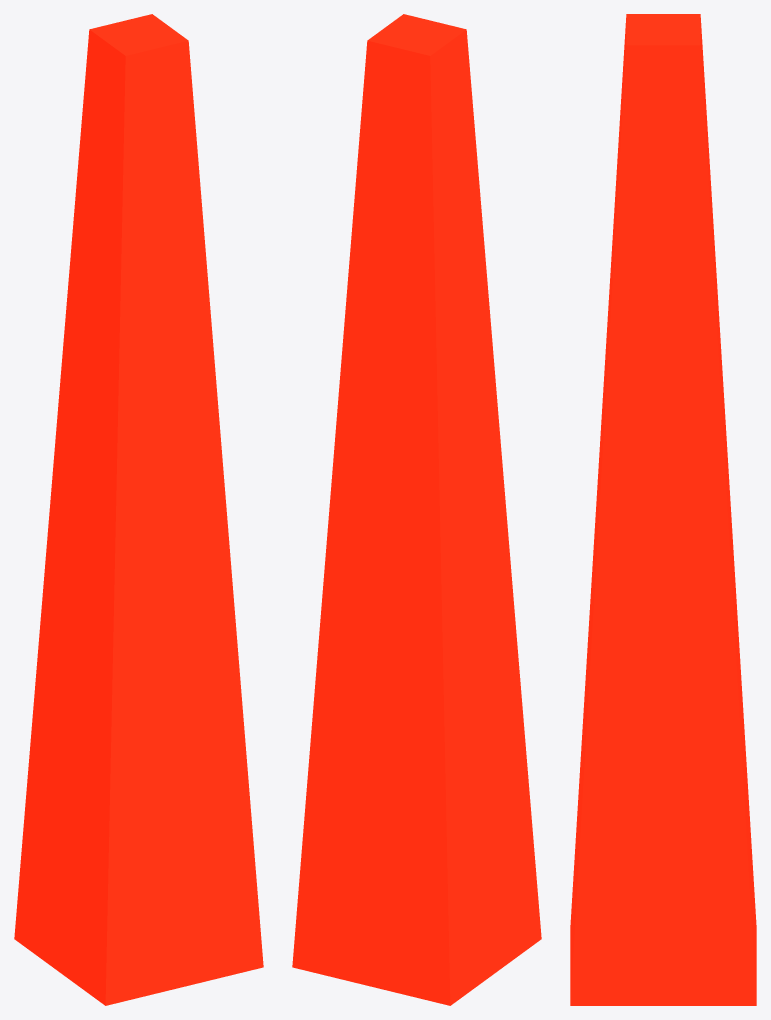
The model's file is BigBeam.fbx.
3 views of the same model, side by side, from view 1: azimuth 30°, elevation 25°; view 2: azimuth 150°, elevation 25°; view 3: azimuth 270°, elevation 25° (orthographic). The views are drawn at different scales.
Visible parts, largest first — view 1: Box001; view 2: Box001; view 3: Box001.
Boxes of the visible parts, box(x1,y1,x2,y2) form: Box001: box(14, 14, 263, 1005); Box001: box(292, 14, 541, 1005); Box001: box(570, 14, 756, 1005).
Bounding box in the file's own units: 53.81 × 299 × 53.81.
